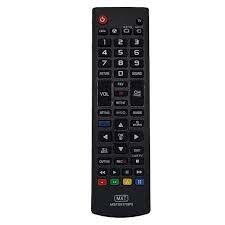remote control: (85, 4, 159, 217)
